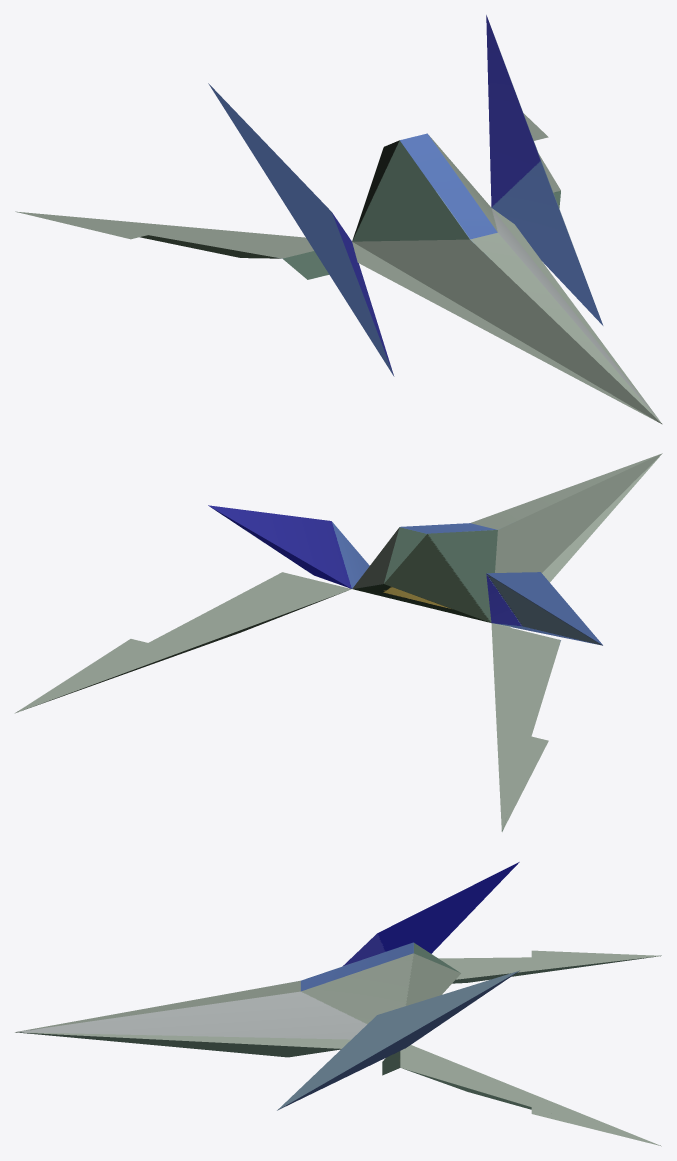
Rendered from arwing.obj.
3 views of the same model, one above another, from view 1: azimuth 30°, elevation 25°; view 2: azimuth 150°, elevation 25°; view 3: azimuth 270°, elevation 25° (orthographic). The views are drawn at different scales.
Parts seen in each view (by area): view 1: B4BC_66001; view 2: B4BC_66001; view 3: B4BC_66001.
Boxes of the visible parts, bbox=[...] form: B4BC_66001: bbox=[15, 15, 662, 424]; B4BC_66001: bbox=[15, 453, 662, 831]; B4BC_66001: bbox=[15, 862, 661, 1146].
Size of the model in its own units: 4.2 by 1.58 by 6.04.
1 material, 1 textured.
